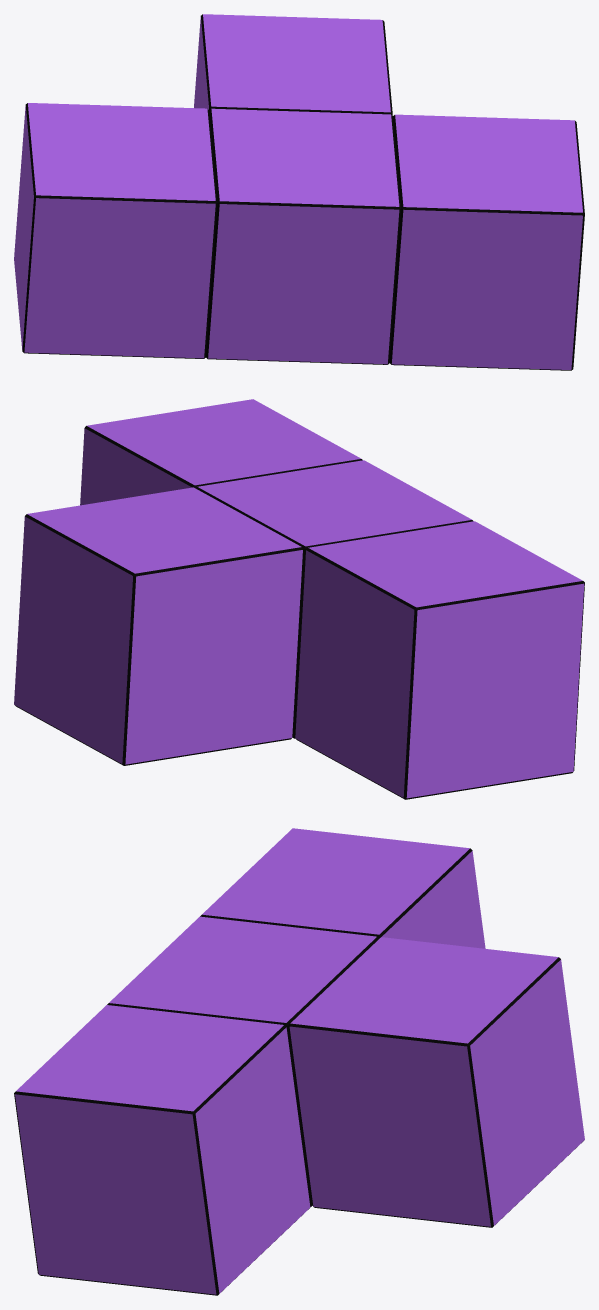
3 views of the same model, one above another, from view 1: azimuth 30°, elevation 25°; view 2: azimuth 150°, elevation 25°; view 3: azimuth 270°, elevation 25° (orthographic). The views are drawn at different scales.
Visible parts, largest first — view 1: Cube.032, Cube.033, Cube.030, Cube.031; view 2: Cube.032, Cube.031, Cube.033, Cube.030; view 3: Cube.033, Cube.031, Cube.032, Cube.030.
Boxes of the visible parts, x1,y1,x2,y2 form: Cube.032: (14,103,217,358); Cube.033: (389,114,584,370); Cube.030: (206,108,401,364); Cube.031: (194,14,392,115); Cube.032: (295,521,584,799); Cube.031: (14,487,303,765); Cube.033: (80,399,362,505); Cube.030: (196,460,473,738); Cube.033: (14,1005,310,1295); Cube.031: (288,937,584,1227); Cube.032: (200,828,485,948); Cube.030: (107,916,379,1207).
Bounding box in the file's own units: 312 × 131 × 278.
